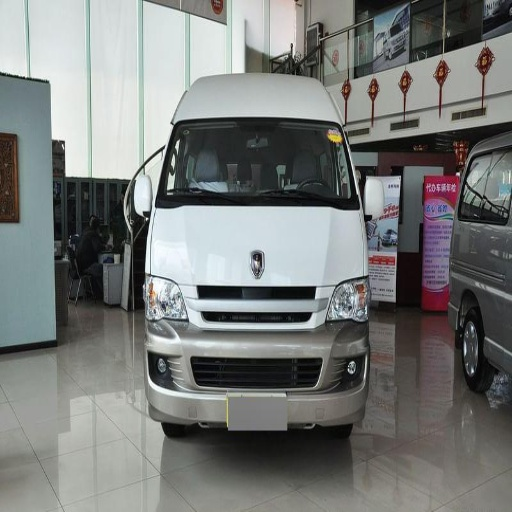front_bumper: (146, 282, 368, 430)
front_right_light: (143, 273, 186, 321)
hood: (155, 205, 363, 286)
